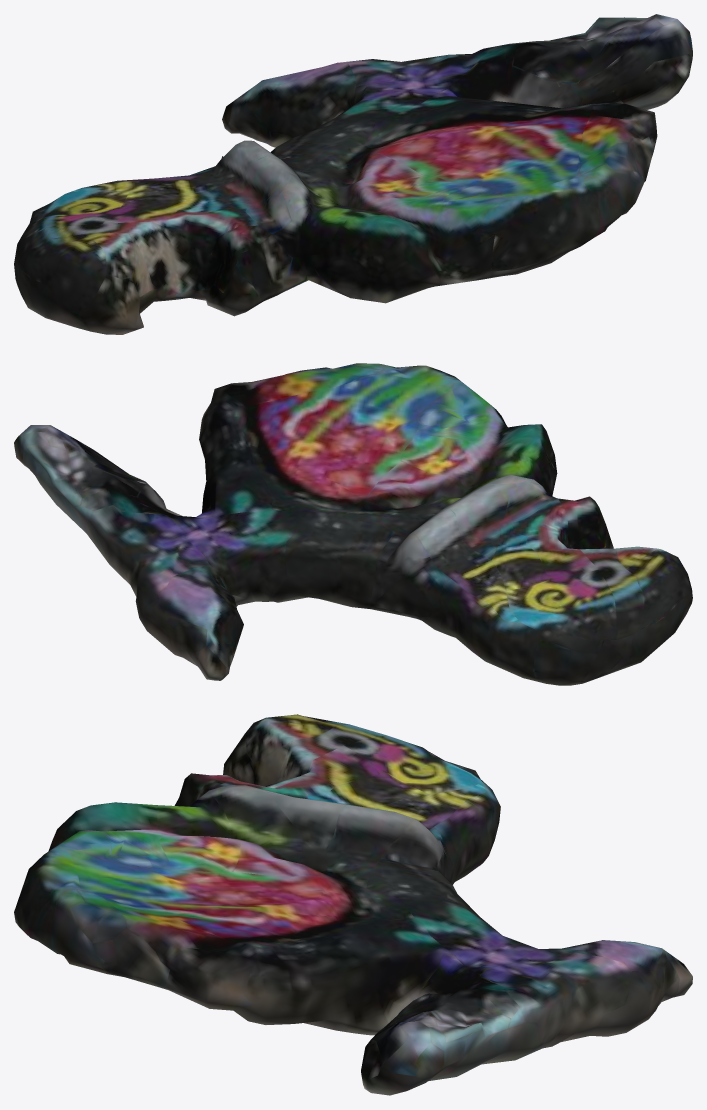
File: hall.glb
3 renders of one model, top to bottom at view 1: azimuth 30°, elevation 25°; view 2: azimuth 150°, elevation 25°; view 3: azimuth 270°, elevation 25°, orthographic. The views are drawn at different scales.
Size of the model in its own units: 0.6925 by 0.1356 by 0.5196.
1 material, 1 textured.
